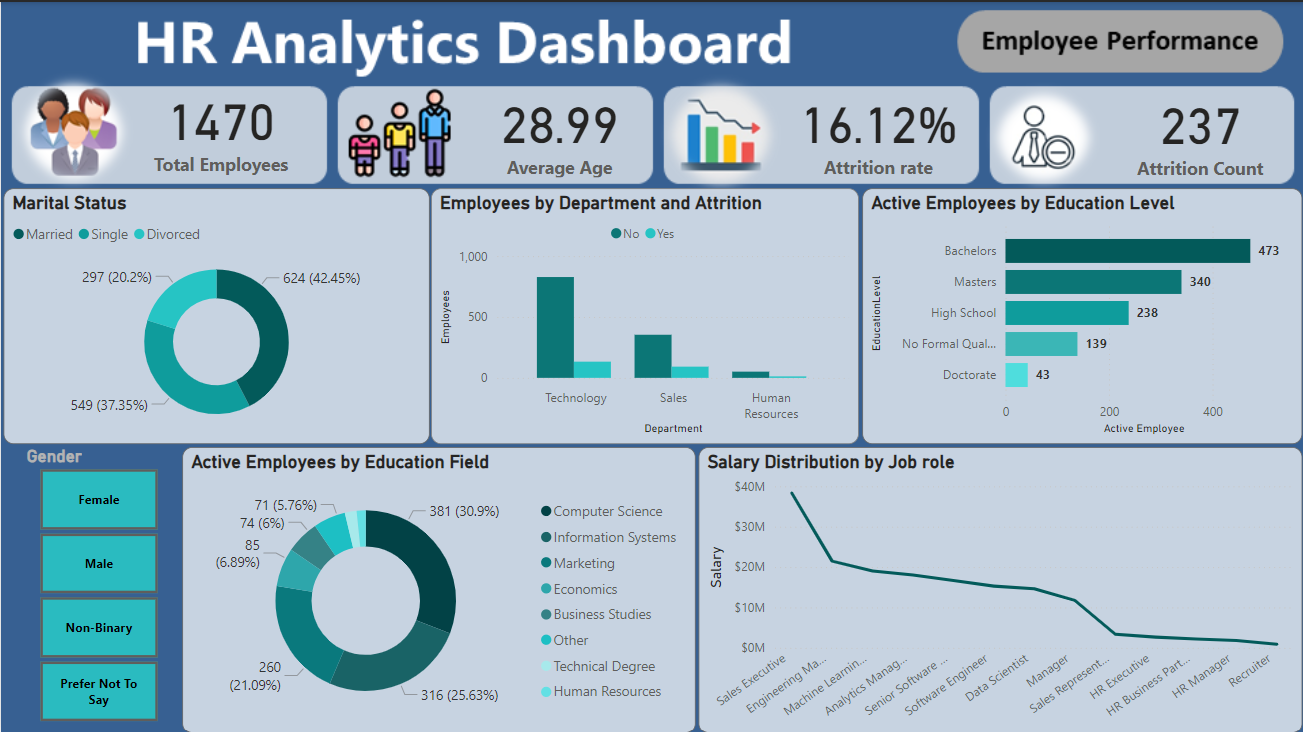

The page's visual inventory and layout, read from the dashboard file:
{"tool":"powerbi","page":{"name":"Page 1","canvas":[1280,720],"ordinal":0},"visuals":[{"type":"donutChart","title":"Active Employees by Education Field","fields":{"Y":["EducationLevel.Active Employee"],"Category":["Employee.EducationField"]},"box":[178.4,436.4,503.6,281.3],"z":0},{"type":"card","fields":{"Values":["CountNonNull(Employee.EmployeeID)"]},"box":[82.2,69.9,267.5,108],"z":1000},{"type":"card","fields":{"Values":["EducationLevel.Attrition rate"]},"box":[757.1,72.4,208.6,108],"z":2000},{"type":"donutChart","title":"Marital Status","fields":{"Category":["Employee.MaritalStatus"],"Y":["CountNonNull(Employee.EmployeeID)"]},"box":[2.7,182.5,418.5,251.1],"z":3000},{"type":"lineChart","title":"Salary Distribution by Job role","fields":{"Y":["Sum(Employee.Salary)"],"Category":["Employee.JobRole"]},"box":[684.7,436.4,592.8,281.3],"z":4000},{"type":"clusteredBarChart","title":"Active Employees by Education Level","fields":{"Category":["EducationLevel.EducationLevel"],"Y":["EducationLevel.Active Employee"]},"box":[845.3,182.5,432.2,251.1],"z":5000},{"type":"card","fields":{"Values":["EducationLevel.Attrition Count"]},"box":[1101.8,73.6,150.9,108],"z":6000},{"type":"card","fields":{"Values":["Avg(Employee.Age)"]},"box":[441.7,76.1,213.5,100.6],"z":7000},{"type":"clusteredColumnChart","title":"Employees by Department and Attrition","fields":{"Series":["Employee.Attrition"],"Category":["Employee.Department"],"Y":["CountNonNull(Employee.EmployeeID)"]},"box":[422.6,182.5,419.9,251.1],"z":8000},{"type":"slicer","fields":{"Values":["Employee.Gender"]},"box":[12.3,430.7,165.6,282.2],"z":9000},{"type":"actionButton","box":[939.9,11,312.9,58.9],"z":10000}]}

Visuals, with their boxes in screenshot pixels (x1, y1, x2, y2), scaled from the page's 1280x720 canvas onto the 1303x732 screenshot:
"Active Employees by Education Field" donutChart: [left=182, top=444, right=694, bottom=730]
card - CountNonNull(Employee.EmployeeID): [left=84, top=71, right=356, bottom=181]
card - EducationLevel.Attrition rate: [left=771, top=74, right=983, bottom=183]
"Marital Status" donutChart: [left=3, top=186, right=429, bottom=441]
"Salary Distribution by Job role" lineChart: [left=697, top=444, right=1300, bottom=730]
"Active Employees by Education Level" clusteredBarChart: [left=860, top=186, right=1300, bottom=441]
card - EducationLevel.Attrition Count: [left=1122, top=75, right=1275, bottom=185]
card - Avg(Employee.Age): [left=450, top=77, right=667, bottom=180]
"Employees by Department and Attrition" clusteredColumnChart: [left=430, top=186, right=858, bottom=441]
slicer - Employee.Gender: [left=13, top=438, right=181, bottom=725]
actionButton: [left=957, top=11, right=1275, bottom=71]
